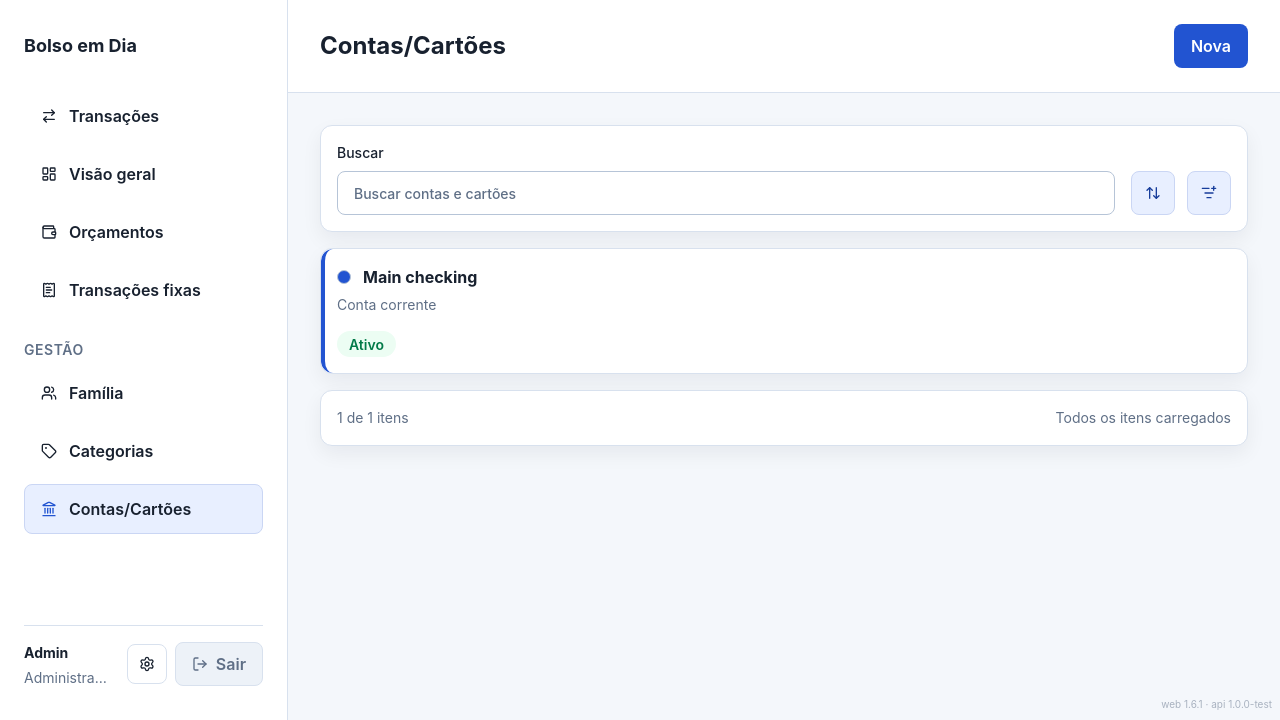
Test: AccountsPage › shows mapped error feedback when account save fails
The width and height of the screenshot is (1280, 720).
expect the text "Main checking" is shown: met, box [363,265,477,289]
Step 1. Click the button "Nova" → (1211, 46), box [1174,24,1248,68]
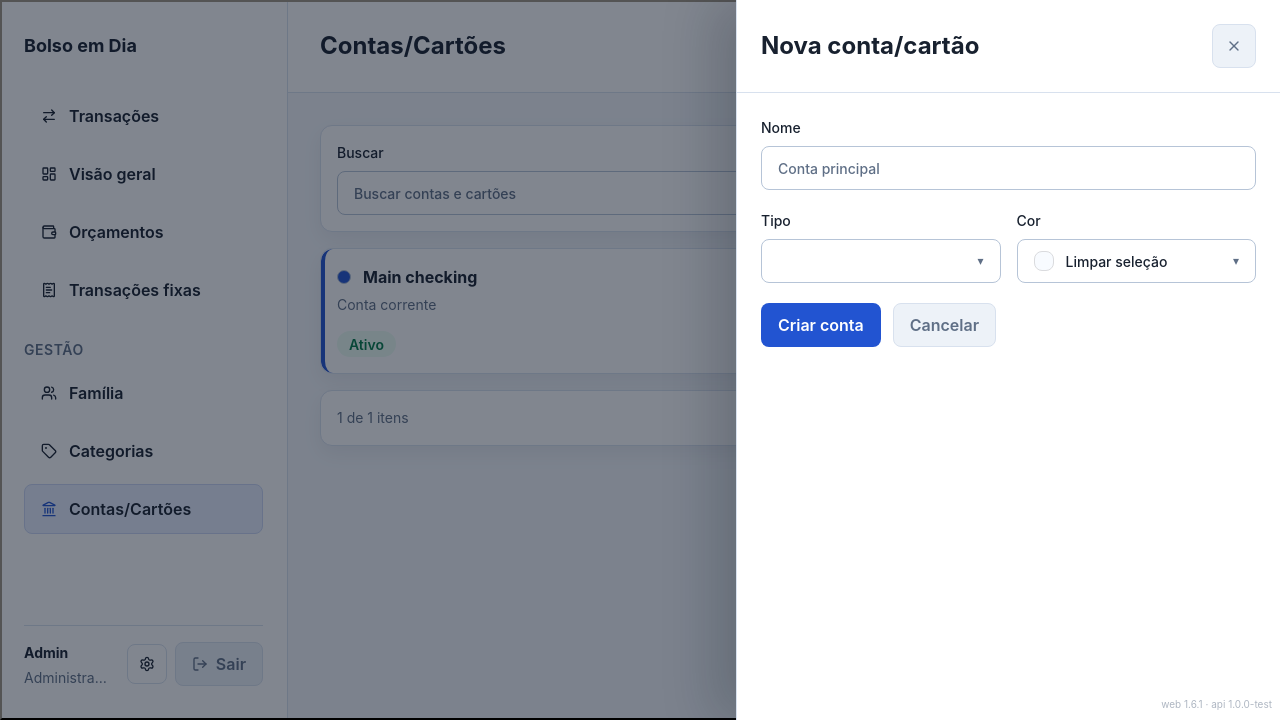
Step 2. Type "Travel card" into the field labelled "Nome" → (1008, 168), box [761,146,1256,190]
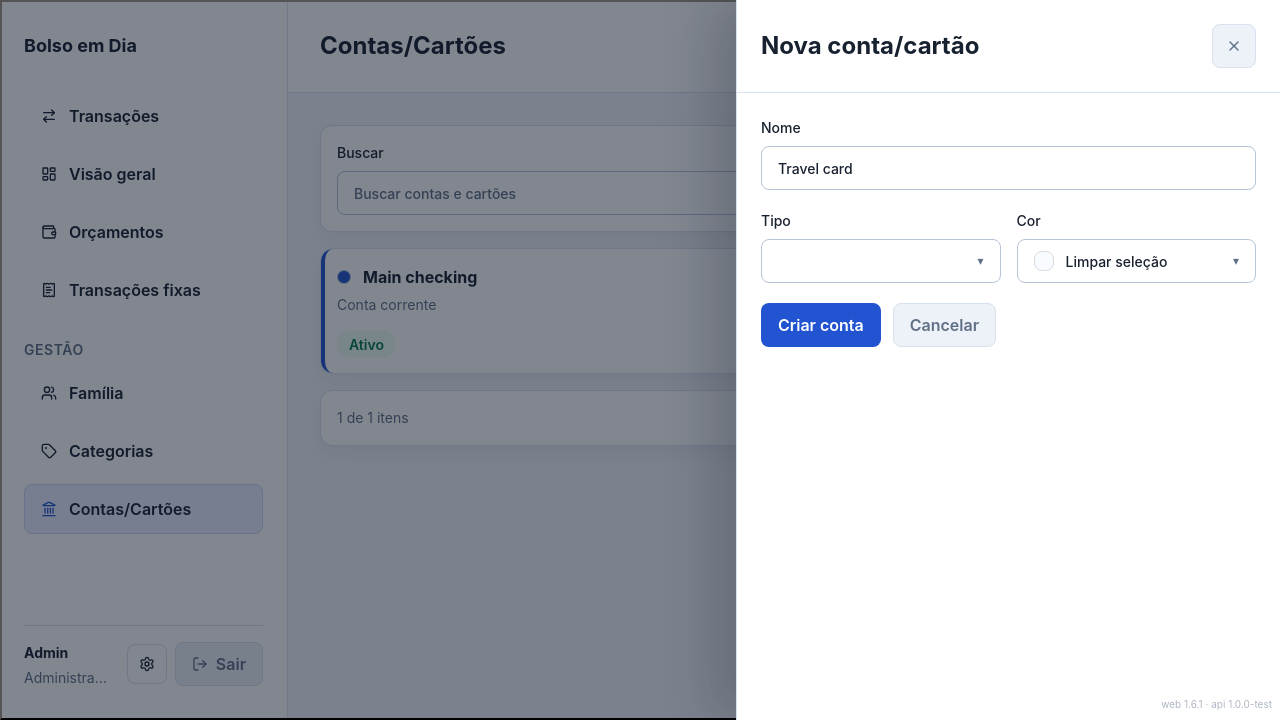
Step 3. Click the button "Criar conta" → (821, 325), box [761,303,881,347]
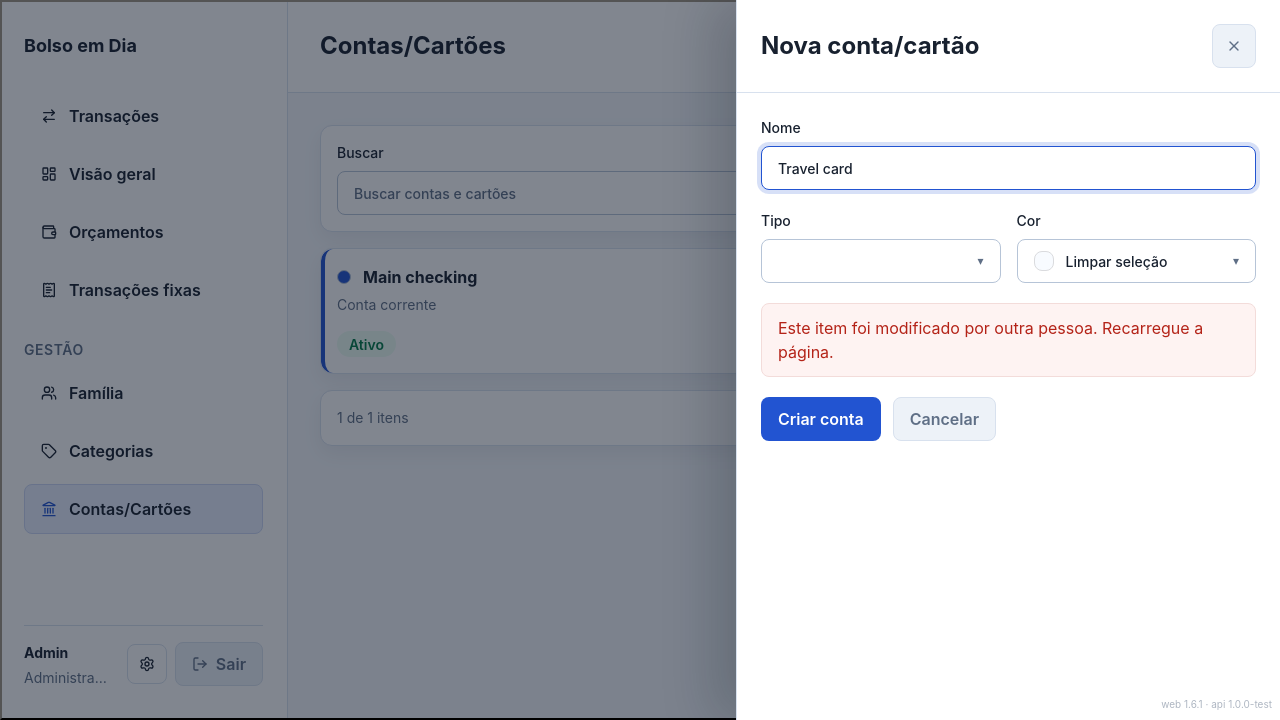
expect the text "Este item foi modificado por outra pessoa. Recarregue a página." is shown: met, box [761,303,1256,377]
